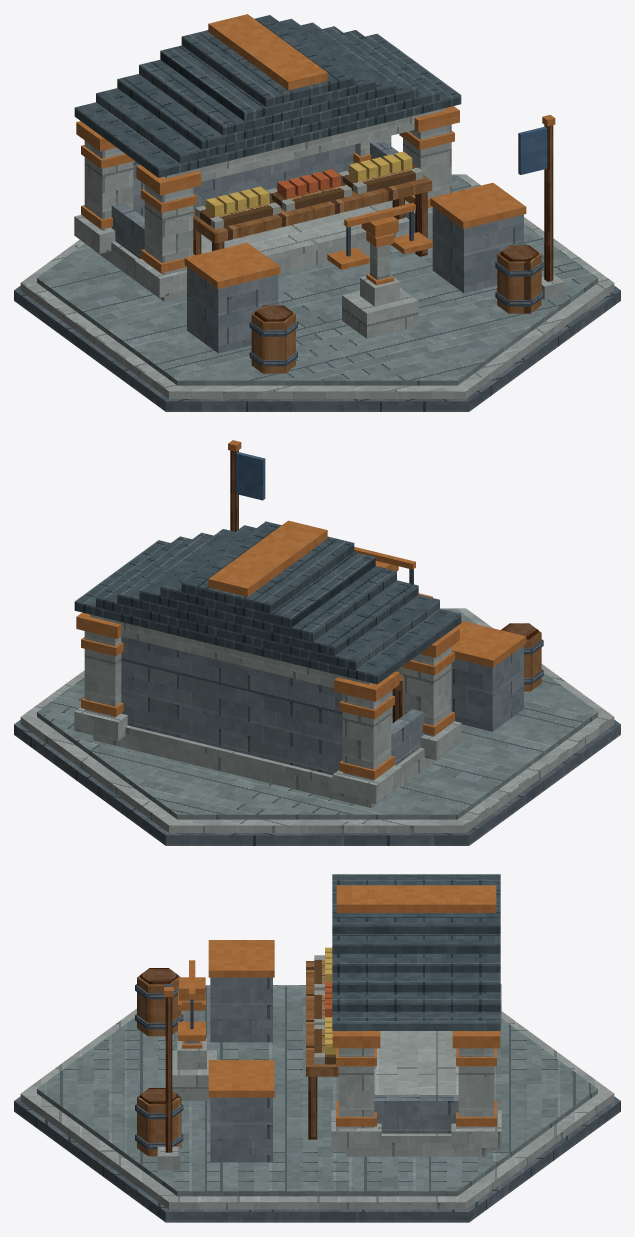
The model's file is dwarf_market_hex_v1.glb.
3 renders of one model, top to bottom at view 1: azimuth 30°, elevation 25°; view 2: azimuth 150°, elevation 25°; view 3: azimuth 270°, elevation 25°, orthographic.
Parts seen in each view (by area): view 1: Dwarf_Market_Hex_V1_Foundation, Dwarf_Market_Hex_V1_Roofs, Dwarf_Market_Hex_V1_Details, Dwarf_Market_Hex_V1_Structure, Dwarf_Market_Hex_V1_Hall, Dwarf_Market_Hex_V1_Courtyard, Dwarf_Market_Hex_V1_Focus, Dwarf_Market_Hex_V1_Faction; view 2: Dwarf_Market_Hex_V1_Foundation, Dwarf_Market_Hex_V1_Roofs, Dwarf_Market_Hex_V1_Hall, Dwarf_Market_Hex_V1_Structure, Dwarf_Market_Hex_V1_Details, Dwarf_Market_Hex_V1_Courtyard, Dwarf_Market_Hex_V1_Faction, Dwarf_Market_Hex_V1_Focus; view 3: Dwarf_Market_Hex_V1_Foundation, Dwarf_Market_Hex_V1_Roofs, Dwarf_Market_Hex_V1_Details, Dwarf_Market_Hex_V1_Structure, Dwarf_Market_Hex_V1_Hall, Dwarf_Market_Hex_V1_Courtyard, Dwarf_Market_Hex_V1_Focus.
Boxes of the visible parts, bbox=[...] form: Dwarf_Market_Hex_V1_Foundation: bbox=[14, 174, 620, 411]; Dwarf_Market_Hex_V1_Roofs: bbox=[74, 14, 461, 177]; Dwarf_Market_Hex_V1_Details: bbox=[81, 114, 564, 373]; Dwarf_Market_Hex_V1_Structure: bbox=[74, 106, 459, 306]; Dwarf_Market_Hex_V1_Hall: bbox=[93, 139, 432, 301]; Dwarf_Market_Hex_V1_Courtyard: bbox=[187, 207, 523, 353]; Dwarf_Market_Hex_V1_Focus: bbox=[327, 203, 432, 338]; Dwarf_Market_Hex_V1_Faction: bbox=[518, 126, 547, 174]; Dwarf_Market_Hex_V1_Foundation: bbox=[14, 608, 620, 845]; Dwarf_Market_Hex_V1_Roofs: bbox=[74, 520, 461, 684]; Dwarf_Market_Hex_V1_Hall: bbox=[93, 636, 442, 808]; Dwarf_Market_Hex_V1_Structure: bbox=[74, 561, 461, 804]; Dwarf_Market_Hex_V1_Details: bbox=[81, 440, 543, 779]; Dwarf_Market_Hex_V1_Courtyard: bbox=[451, 645, 523, 731]; Dwarf_Market_Hex_V1_Faction: bbox=[236, 452, 265, 500]; Dwarf_Market_Hex_V1_Focus: bbox=[354, 547, 432, 597]; Dwarf_Market_Hex_V1_Foundation: bbox=[14, 985, 620, 1222]; Dwarf_Market_Hex_V1_Roofs: bbox=[332, 874, 500, 1030]; Dwarf_Market_Hex_V1_Details: bbox=[135, 940, 496, 1169]; Dwarf_Market_Hex_V1_Structure: bbox=[177, 977, 501, 1150]; Dwarf_Market_Hex_V1_Hall: bbox=[345, 1031, 487, 1156]; Dwarf_Market_Hex_V1_Courtyard: bbox=[210, 977, 272, 1162]; Dwarf_Market_Hex_V1_Focus: bbox=[172, 960, 216, 1100].
Bounding box in the file's own units: 1.59 × 0.724 × 1.84.
Materials: 1 (1 with a texture image).
